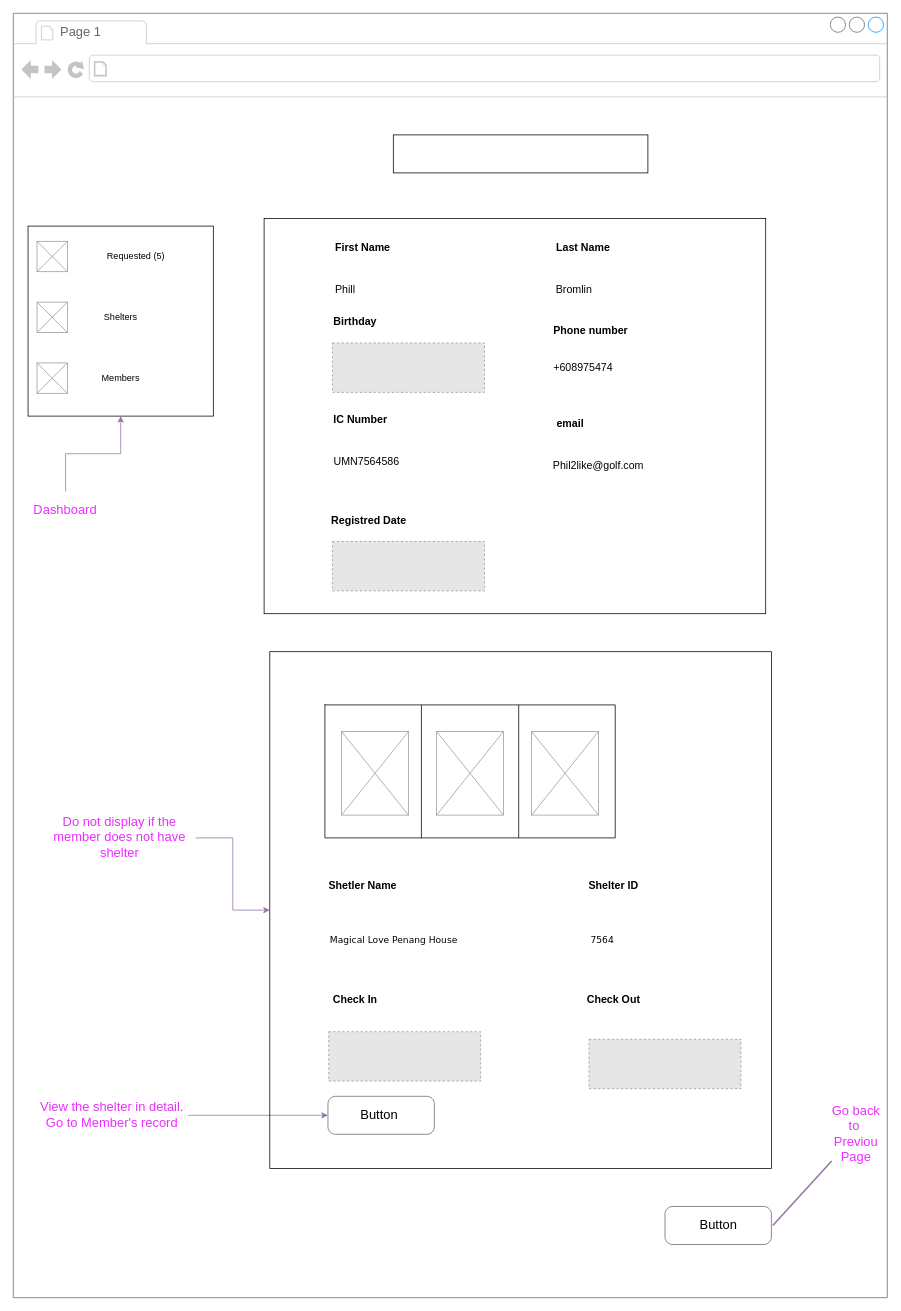
The diagram is 901 pixels wide and 1311 high, and some of its shapes have lost their labels. Grey dashed boxes stand in for pictures. The shapes that lost their labels are listed below. From the top down, each one's centre as x and y in pixels, then its label:
At (x=206, y=68): "https://www.default.com".
At (x=520, y=153): "Title 1".
